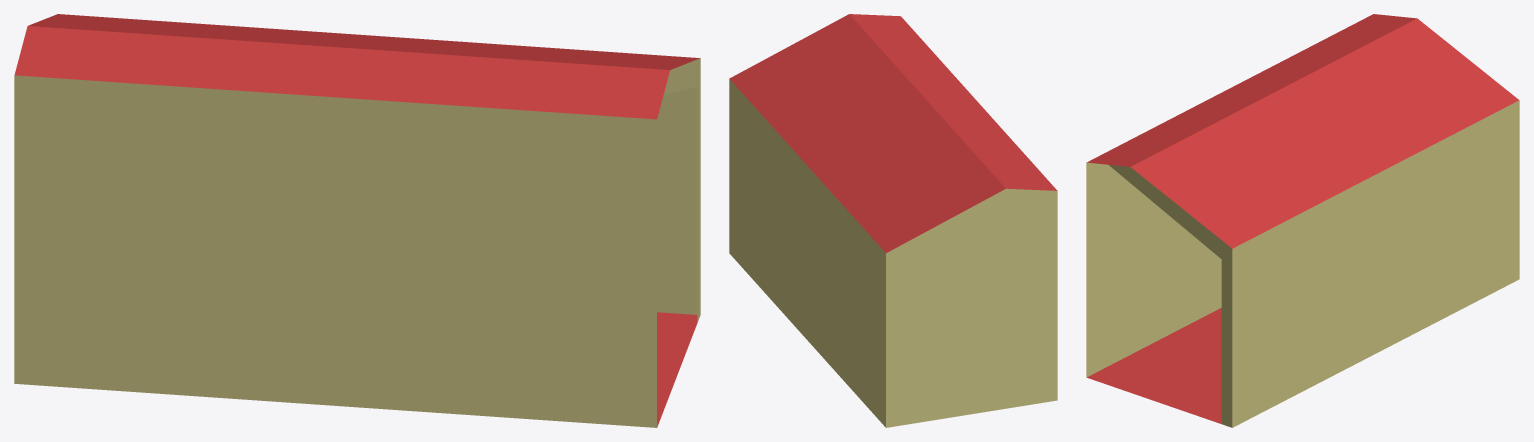
The picture shows the model from 3 angles, left to right: view 1: azimuth 30°, elevation 25°; view 2: azimuth 150°, elevation 25°; view 3: azimuth 270°, elevation 25°; orthographic projection. The views are drawn at different scales.
Visible parts, largest first — view 1: group_4, group_3, group_5; view 2: group_4, group_3; view 3: group_4, group_3, group_5.
Part boxes in pixels (left/top/right/bottom): group_4: left=14, top=58, right=700, bottom=427; group_3: left=14, top=14, right=700, bottom=119; group_5: left=657, top=312, right=697, bottom=427; group_4: left=729, top=79, right=1057, bottom=427; group_3: left=729, top=14, right=1057, bottom=252; group_4: left=1086, top=100, right=1519, bottom=427; group_3: left=1087, top=14, right=1518, bottom=248; group_5: left=1087, top=308, right=1221, bottom=423.
Size of the model in its own units: 23.02 by 21.17 by 12.18.
